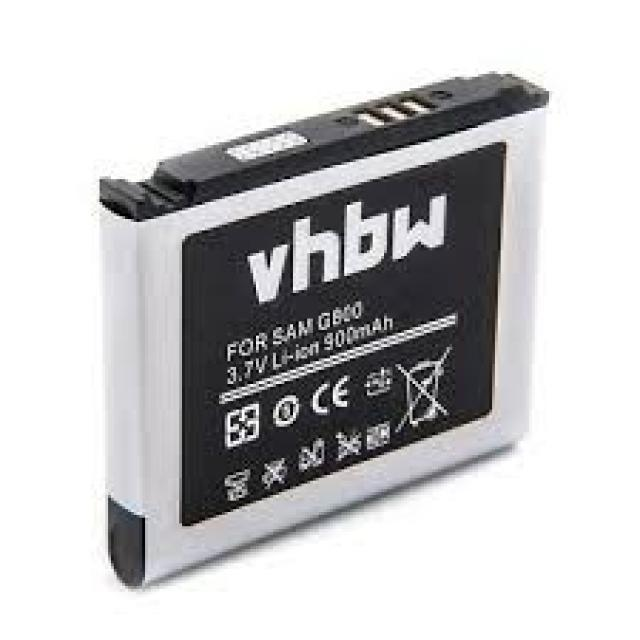battery: (99, 71, 554, 594)
